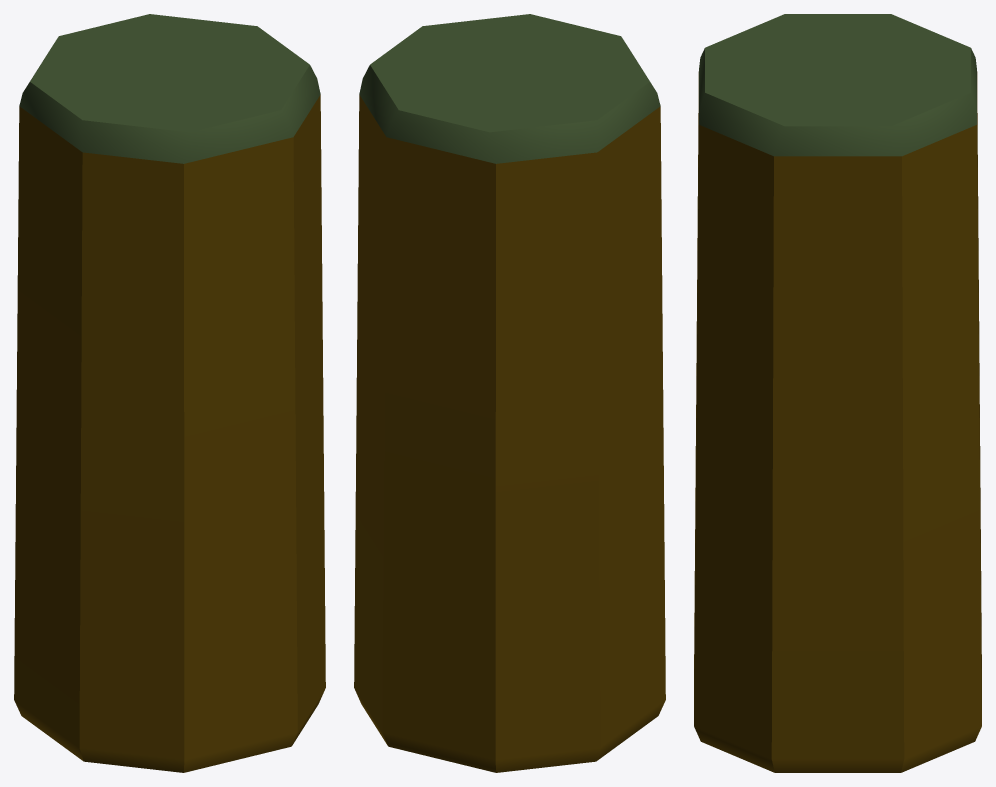
The model's file is envCliff_8x8b.fbx.
The picture shows the model from 3 angles, left to right: view 1: azimuth 30°, elevation 25°; view 2: azimuth 150°, elevation 25°; view 3: azimuth 270°, elevation 25°; orthographic projection.
Visible parts, largest first — view 1: envCliff_8x8; view 2: envCliff_8x8; view 3: envCliff_8x8.
Boxes of the visible parts, box(x1,y1,x2,y2) form: envCliff_8x8: box(14, 14, 325, 772); envCliff_8x8: box(354, 14, 665, 772); envCliff_8x8: box(694, 14, 981, 772).
Bounding box in the file's own units: 7.82 × 19.32 × 7.82.
